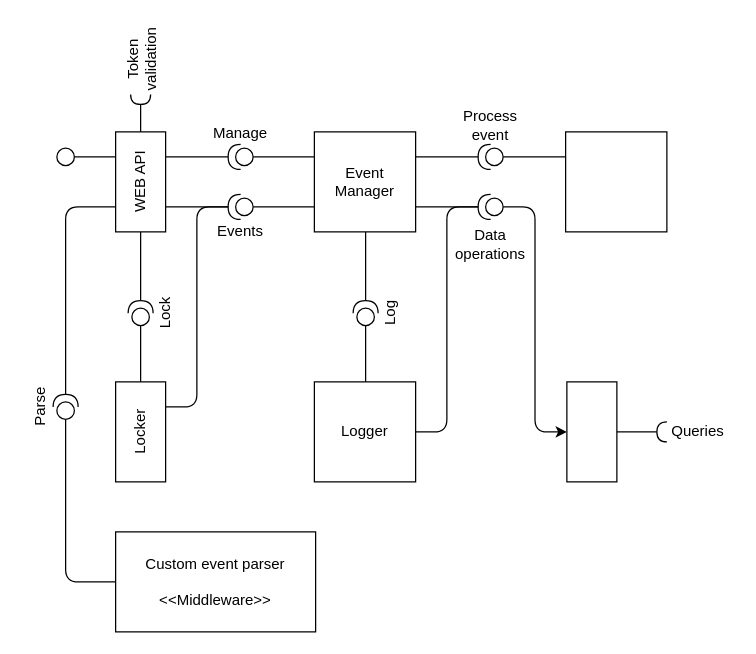
This 756x654 diagram has some shape labels left out. The shapes that lost their labels are listed below. From the top down, each one's box as (x1, y1, x2, y2) in pixels, then its label:
(564, 131, 667, 232): Event processor
(566, 381, 617, 482): DAO
